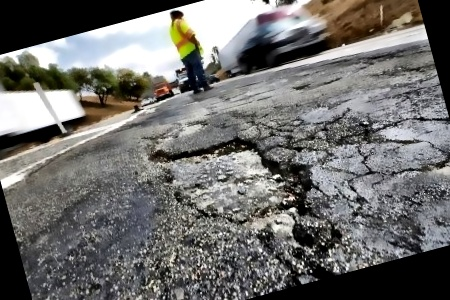pothole: (145, 110, 323, 247), (255, 210, 350, 292), (148, 116, 208, 147)
